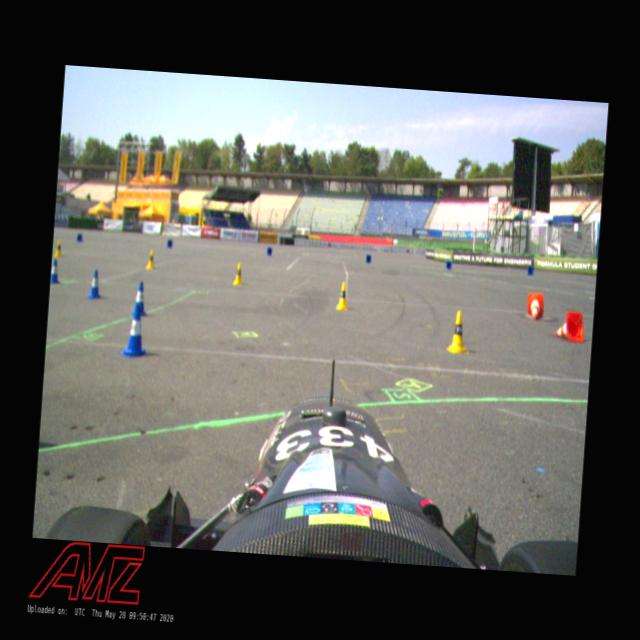blue_cone: (119, 302, 149, 359), (130, 280, 149, 318), (86, 268, 102, 300), (50, 258, 60, 286)
orange_cone: (553, 309, 586, 343), (525, 292, 545, 322)
yellow_cone: (445, 308, 471, 354), (335, 280, 350, 310), (232, 261, 244, 285), (145, 248, 156, 270), (53, 238, 63, 258)
